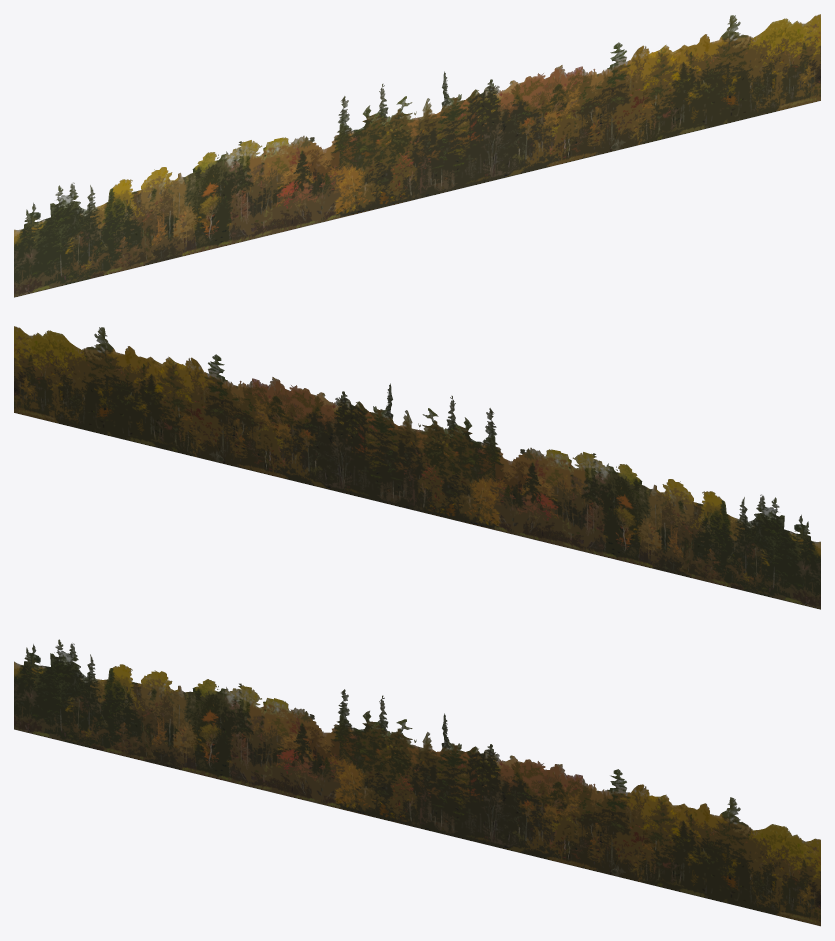
Rendered from LandscapePlane01.FBX.
3 views of the same model, one above another, from view 1: azimuth 30°, elevation 25°; view 2: azimuth 150°, elevation 25°; view 3: azimuth 330°, elevation 25° (orthographic).
Visible parts, largest first — view 1: DirectConnectNode_2-DC_Shell; view 2: DirectConnectNode_2-DC_Shell; view 3: DirectConnectNode_2-DC_Shell.
Boxes of the visible parts, <box> form: DirectConnectNode_2-DC_Shell: <box>14,14,820,297</box>; DirectConnectNode_2-DC_Shell: <box>14,326,820,609</box>; DirectConnectNode_2-DC_Shell: <box>14,639,820,926</box>.
Bounding box in the file's own units: 2883 × 5.12e-05 × 429.
